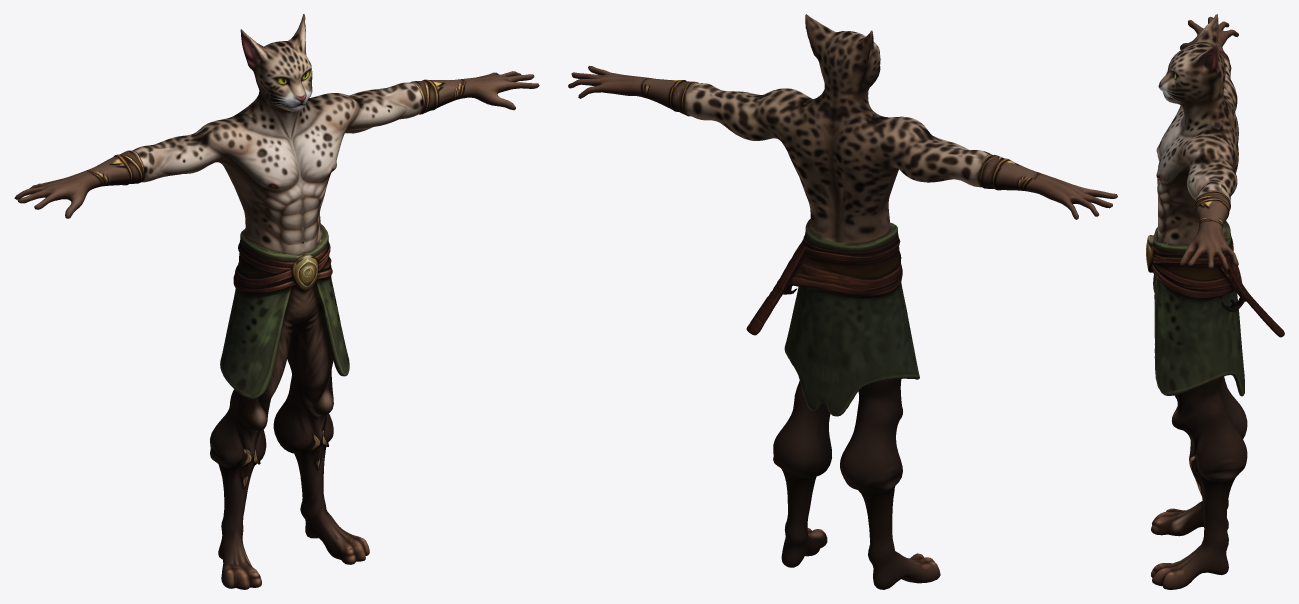
Rendered from 159_cat_orig.glb.
The picture shows the model from 3 angles, left to right: view 1: azimuth 30°, elevation 25°; view 2: azimuth 150°, elevation 25°; view 3: azimuth 270°, elevation 25°; orthographic projection. The views are drawn at different scales.
Parts seen in each view (by area): view 1: geometry_0.001; view 2: geometry_0.001; view 3: geometry_0.001.
Boxes of the visible parts, left/top/right/bottom form: geometry_0.001: left=14, top=14, right=539, bottom=589; geometry_0.001: left=568, top=14, right=1117, bottom=589; geometry_0.001: left=1146, top=14, right=1284, bottom=589.
Bounding box in the file's own units: 1 × 0.987 × 0.2351.
1 material, 1 textured.
